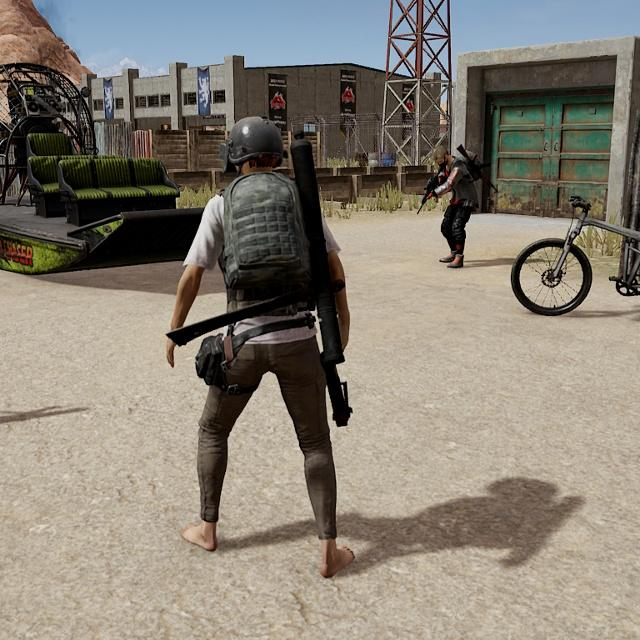head: (225, 109, 290, 179), (431, 144, 449, 165)
people: (163, 109, 367, 585), (423, 138, 487, 272)
